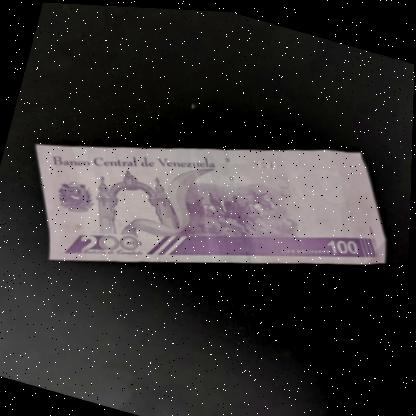one_hundred-back-vef: (6, 62, 415, 349)
